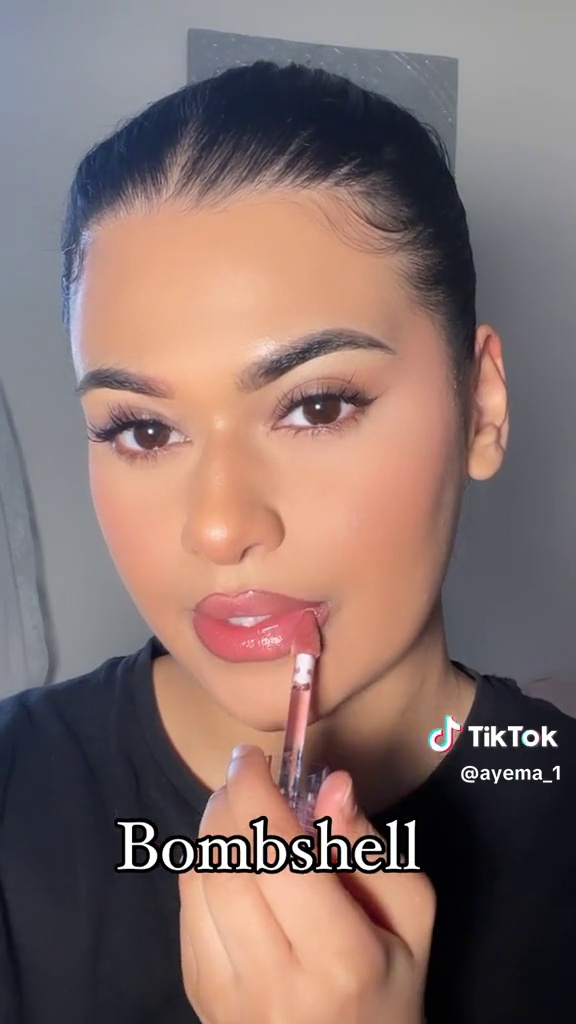train' :'yolo_data/train/images',: (246, 606, 357, 876)
